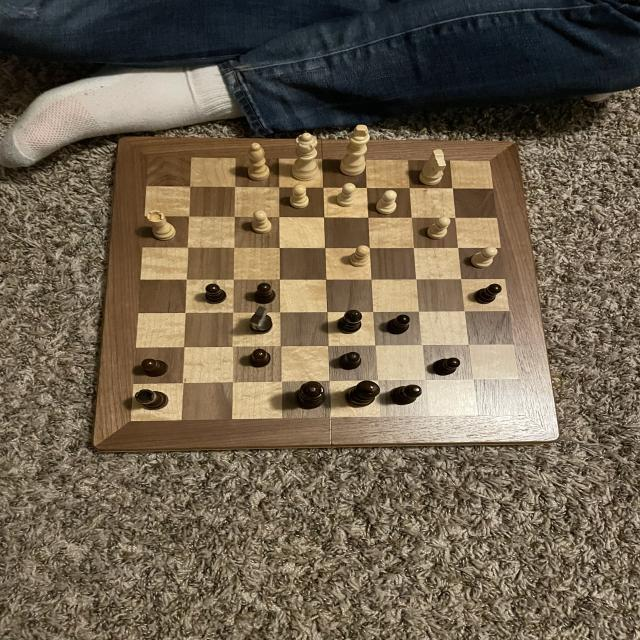bishop: (333, 307, 368, 336), (389, 381, 425, 409)
black-bishop: (343, 377, 386, 410)
black-king: (242, 304, 281, 337)
black-knight: (426, 351, 464, 381), (135, 353, 171, 383), (473, 280, 508, 307), (248, 280, 281, 306), (333, 349, 366, 375), (386, 311, 417, 337), (202, 281, 231, 307), (247, 346, 274, 368)
black-pawn: (293, 377, 331, 411)
black-queen: (130, 387, 174, 416)
black-rook: (242, 140, 276, 183)
white-bishop: (337, 122, 373, 181)
white-king: (413, 147, 455, 190)
white-knight: (466, 244, 505, 273), (248, 206, 277, 238), (423, 214, 454, 243), (333, 178, 359, 212), (287, 182, 314, 212), (374, 188, 400, 217), (346, 243, 376, 268)
white-pawn: (291, 129, 322, 183)
white-queen: (143, 206, 184, 243)
